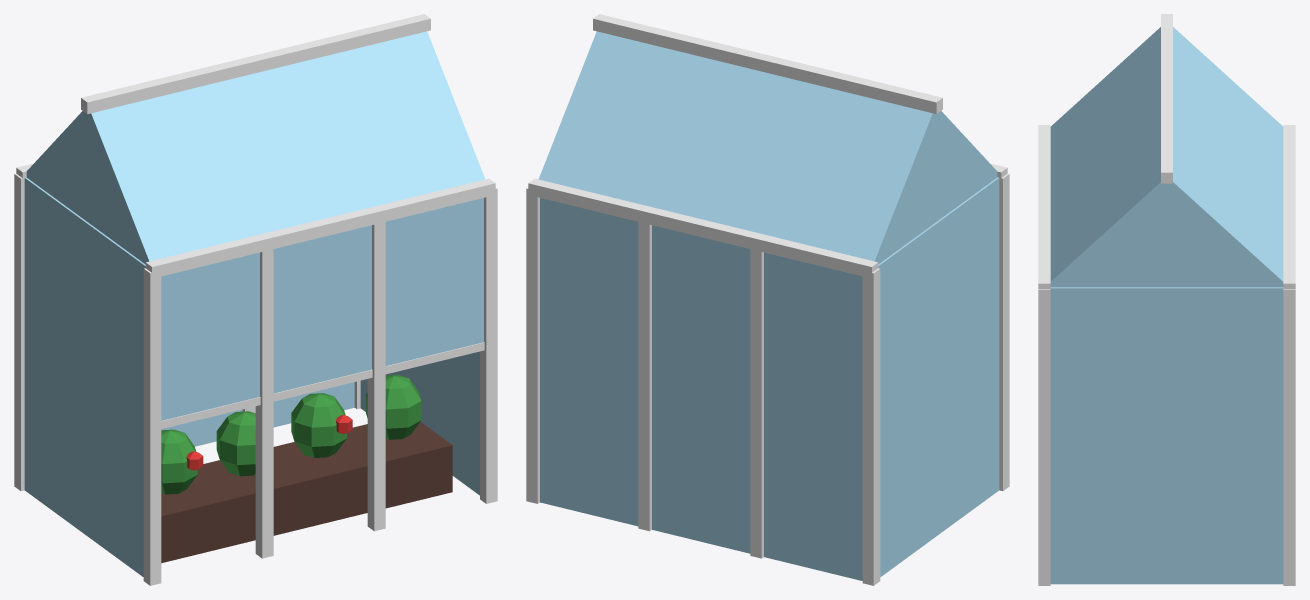
Rendered from vaxthus.glb.
3 views of the same model, side by side, from view 1: azimuth 30°, elevation 25°; view 2: azimuth 150°, elevation 25°; view 3: azimuth 270°, elevation 25° (orthographic). The views are drawn at different scales.
Visible parts, largest first — view 1: vaxthus; view 2: vaxthus; view 3: vaxthus.
Boxes of the visible parts, box(x1,y1,x2,y2) form: vaxthus: box(14, 14, 497, 585); vaxthus: box(526, 14, 1009, 585); vaxthus: box(1038, 14, 1295, 585).
Bounding box in the file's own units: 0.93 × 1.12 × 0.63.
